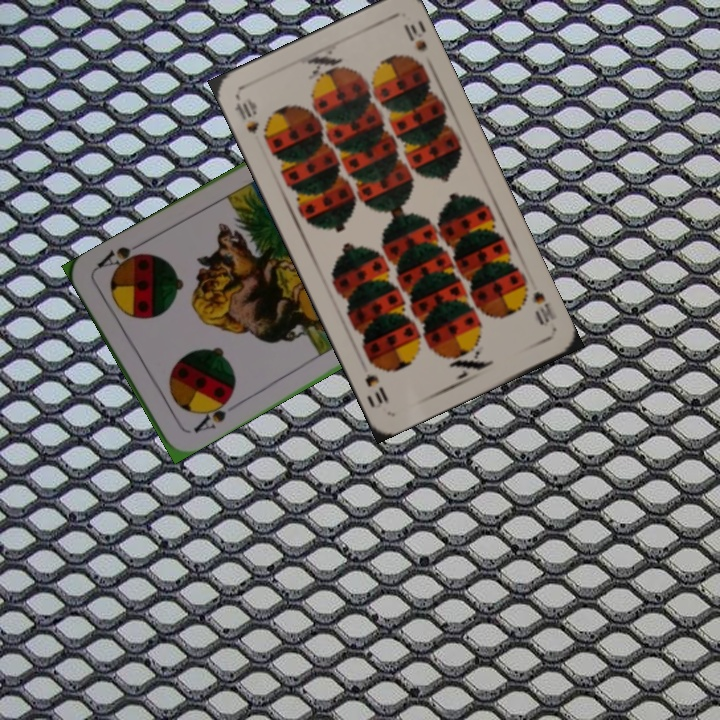S10: (230, 94, 262, 137), (528, 287, 560, 329)
SA: (189, 392, 233, 436)
